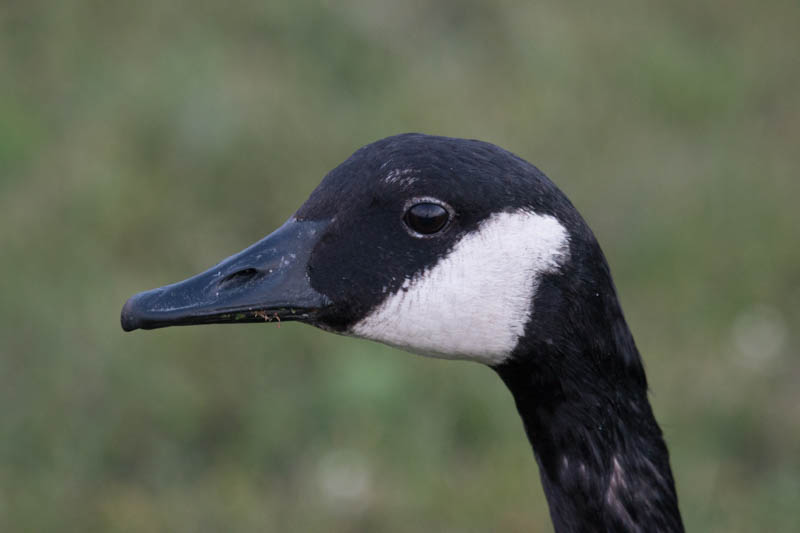goose-head: (120, 133, 596, 372)
